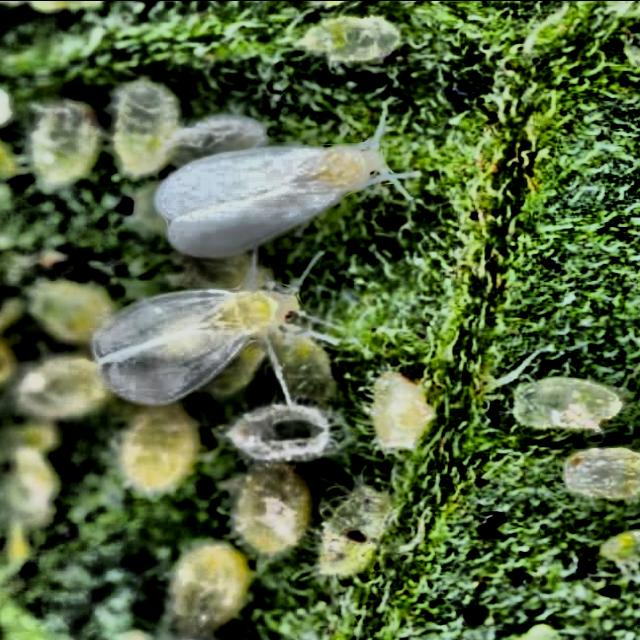nymph: (223, 339, 350, 460), (228, 462, 314, 556), (113, 401, 197, 493), (168, 541, 251, 634), (108, 78, 183, 176), (317, 483, 394, 575), (27, 98, 103, 187), (13, 352, 112, 418), (514, 375, 624, 432), (28, 279, 114, 342), (368, 370, 434, 449), (165, 113, 267, 164), (299, 14, 400, 63), (563, 445, 639, 498), (600, 529, 639, 580)
whitefly: (155, 144, 390, 256), (92, 287, 283, 404)
